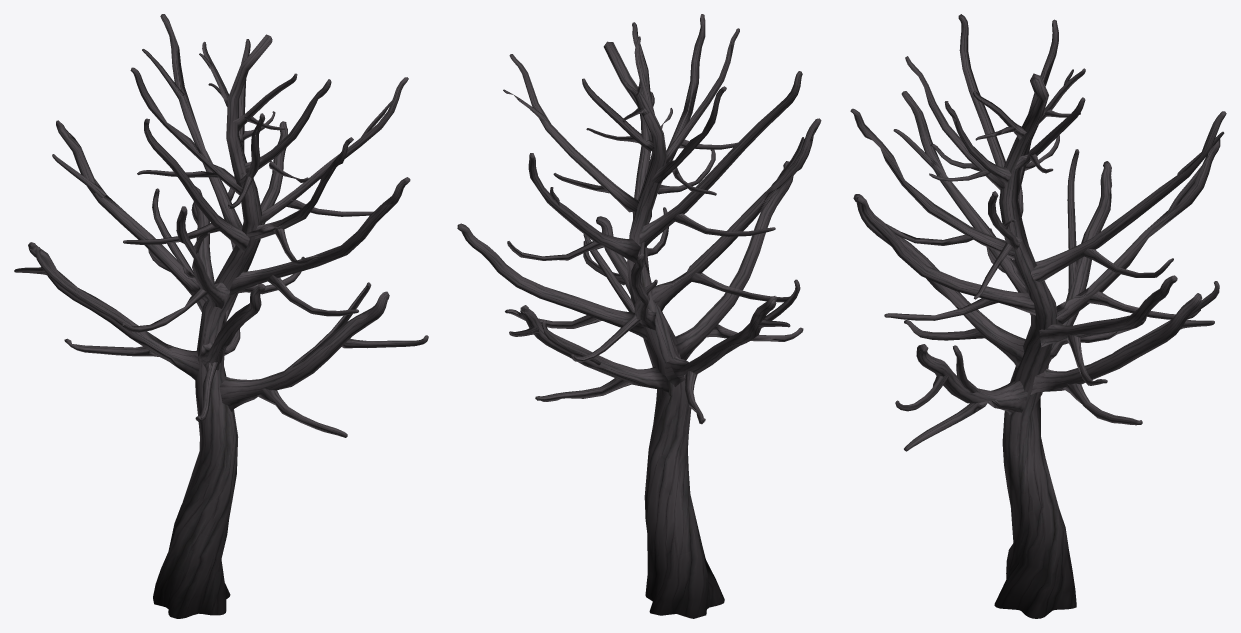
The model's file is DeadTree_1.glb.
The picture shows the model from 3 angles, left to right: view 1: azimuth 30°, elevation 25°; view 2: azimuth 150°, elevation 25°; view 3: azimuth 270°, elevation 25°; orthographic projection. The views are drawn at different scales.
Visible parts, largest first — view 1: DeadTree_1; view 2: DeadTree_1; view 3: DeadTree_1.
Part boxes in pixels (left/top/right/bottom): DeadTree_1: left=14, top=14, right=428, bottom=618; DeadTree_1: left=457, top=14, right=821, bottom=618; DeadTree_1: left=850, top=14, right=1226, bottom=618.
Bounding box in the file's own units: 6.15 × 9.5 × 5.75.
Materials: 1 (1 with a texture image).
